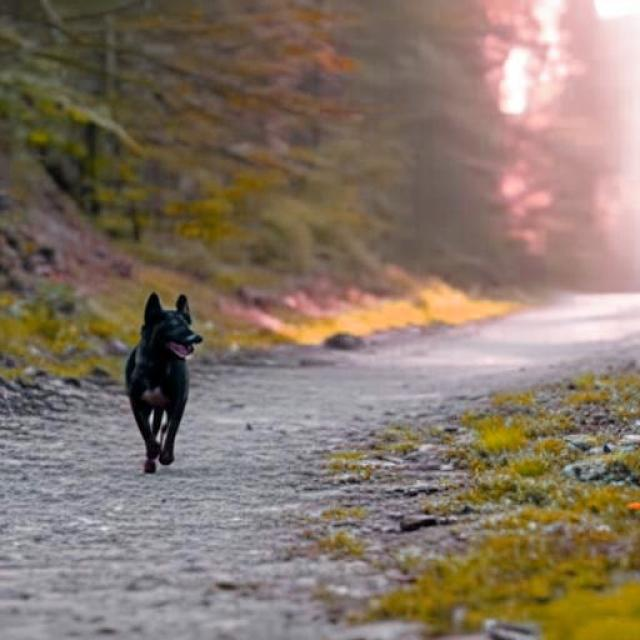Dog: (124, 292, 204, 473)
